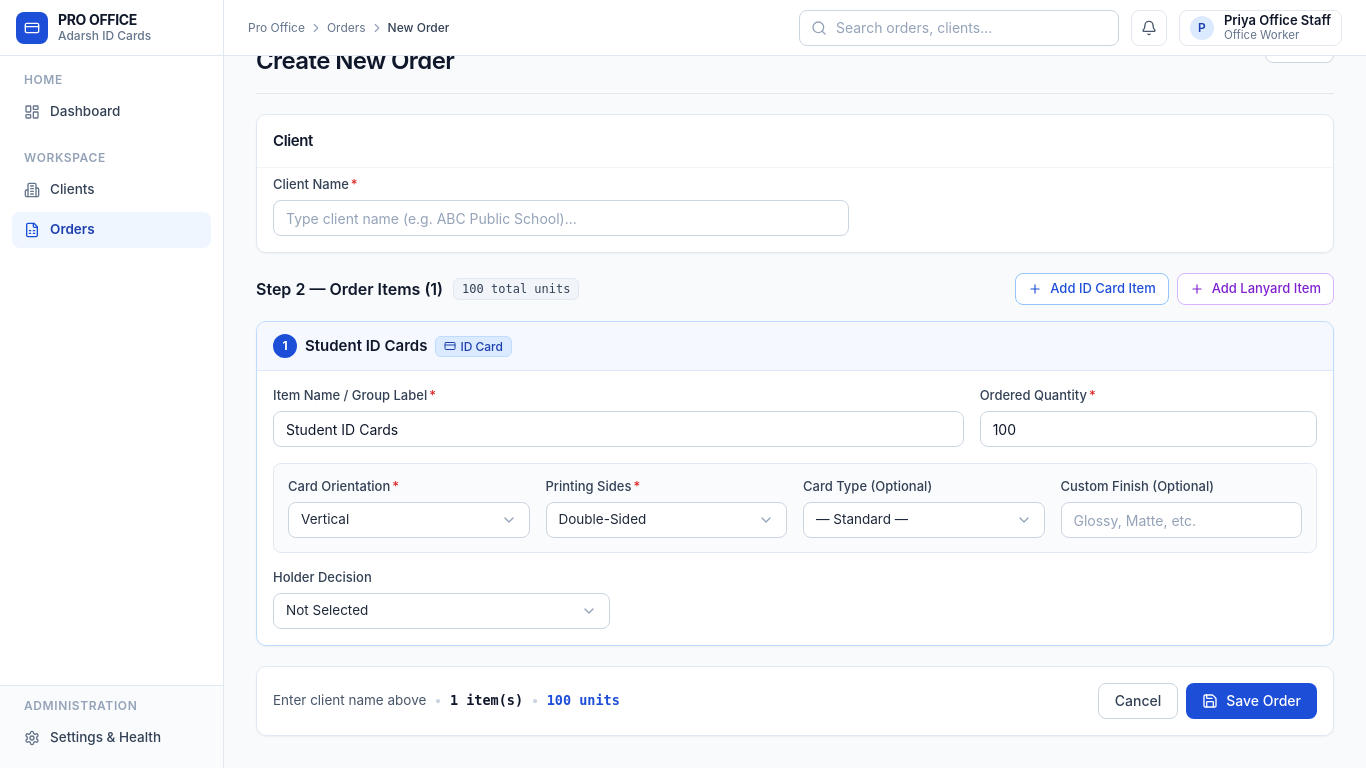
Phase 2 Client & Order Creation and Replacement Workflows › validates missing client name before submitting order creation
(page scrolled)
Expected: the heading "Create New Order" is shown, 256,56 -> 454,77
Click the button with test id "submit-create-order-btn". click: click(1252, 701)
box: 1186,683 -> 1317,719
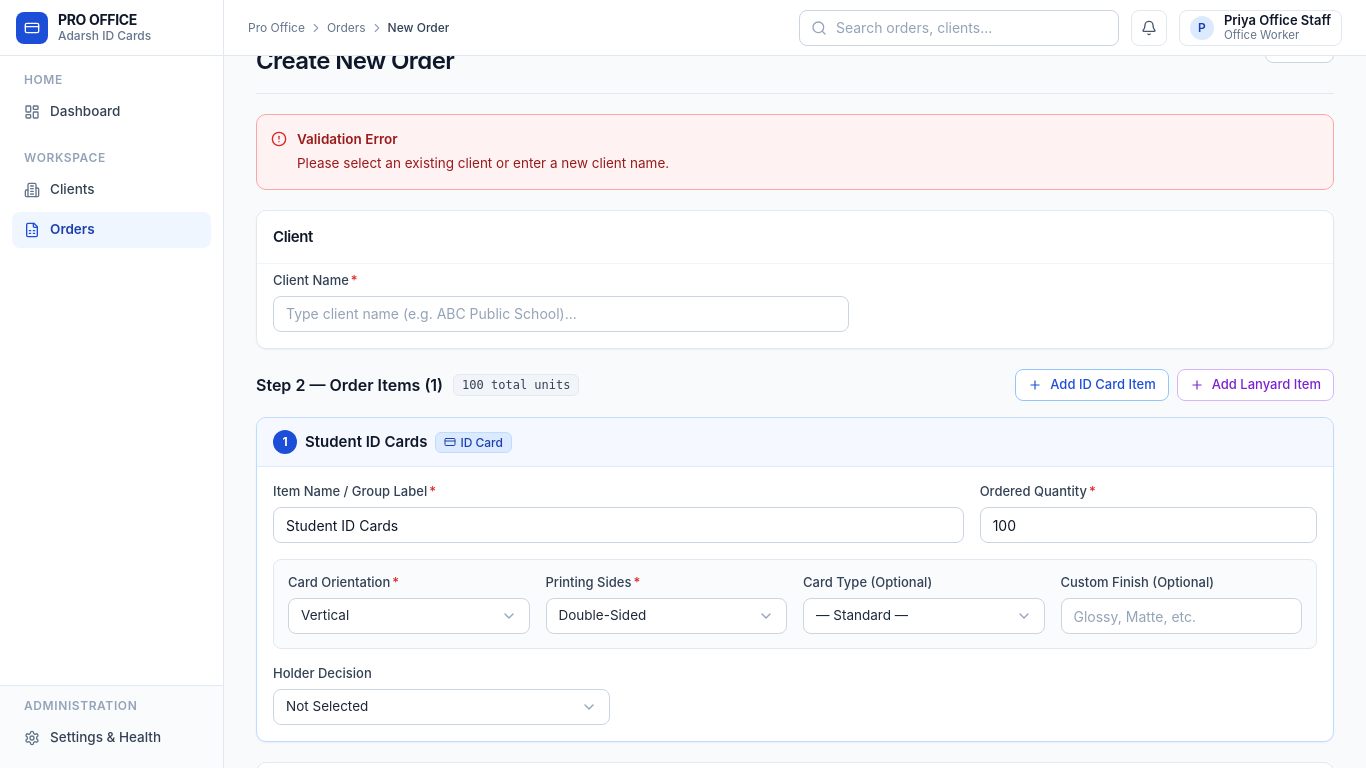
Expected: the text "Please select an existing client or enter a new client name." is shown, 297,153 -> 669,175
